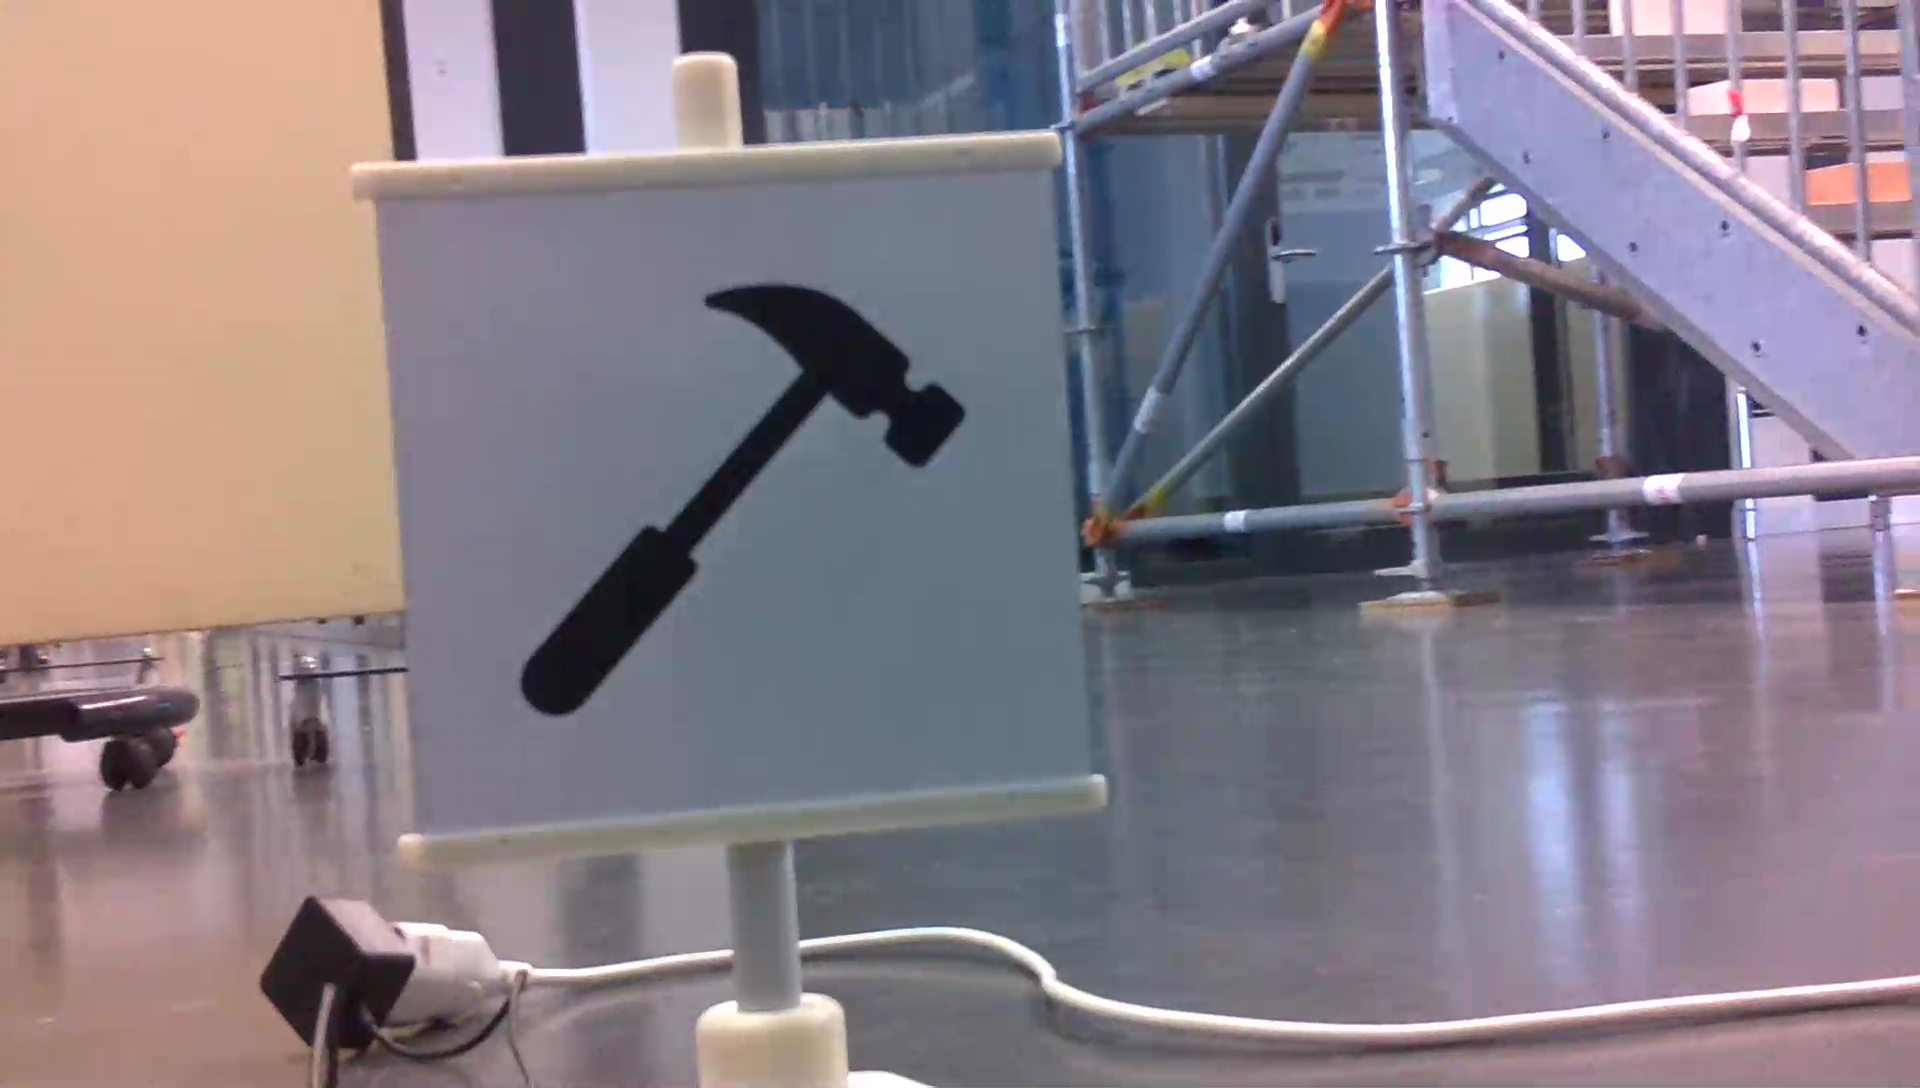hammer: (502, 273, 976, 728)
